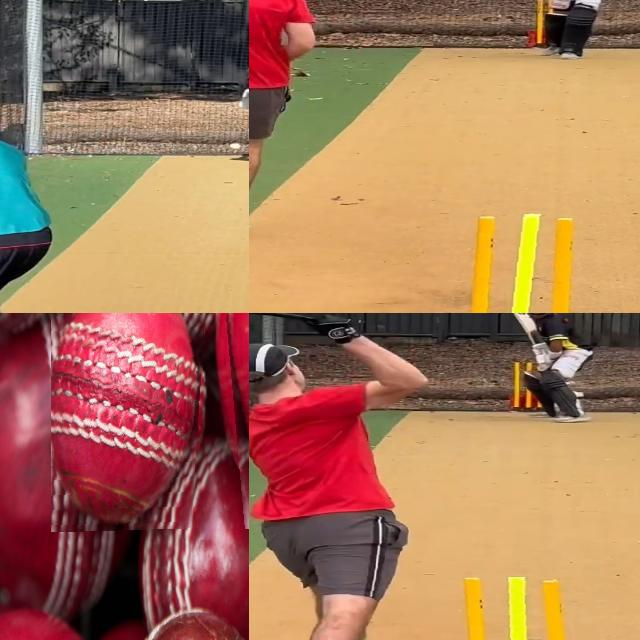Cricket ball: (51, 313, 208, 533), (230, 142, 244, 151)
Stumps: (454, 211, 597, 313), (440, 577, 577, 640)
